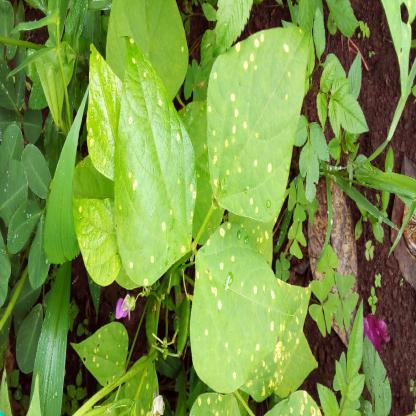Beans_Rust: (118, 34, 196, 308), (191, 221, 305, 396), (207, 29, 307, 223), (86, 43, 121, 181), (70, 197, 122, 289), (72, 322, 129, 390), (117, 358, 163, 416), (262, 391, 324, 416), (187, 396, 244, 416)
